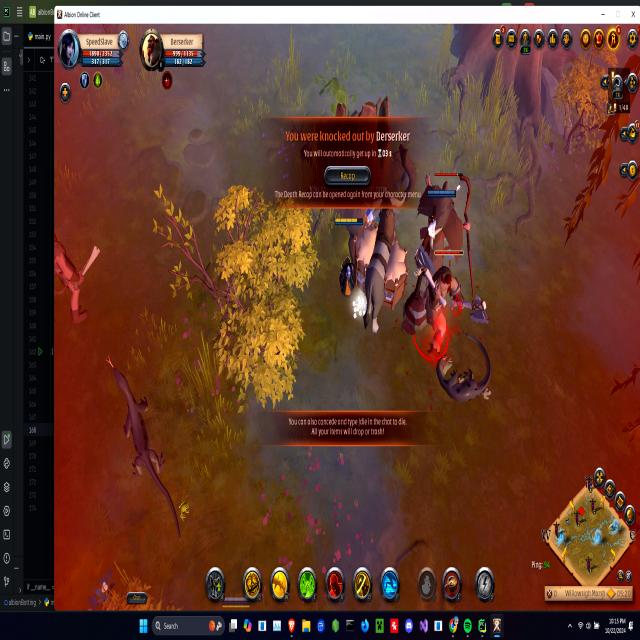ore: (101, 349, 184, 543), (411, 244, 490, 363), (416, 159, 479, 285), (54, 224, 101, 328)
red: (332, 212, 364, 306), (220, 590, 252, 611)
stone: (352, 292, 371, 324)
